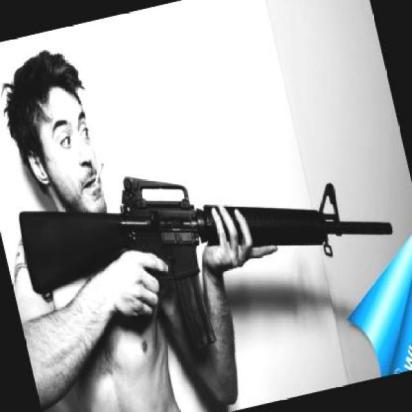Gun: (23, 186, 393, 345)
